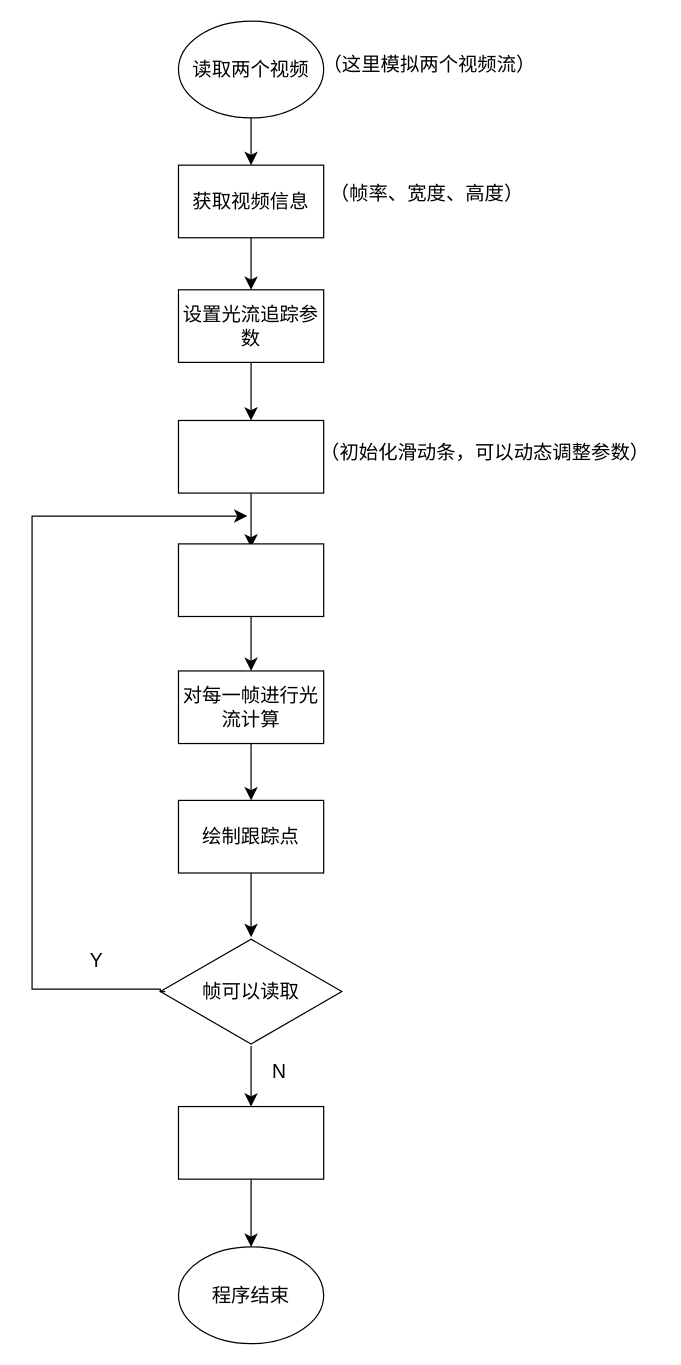
The diagram is 681 pixels wide and 1365 high, and some of its shapes have lost their labels. The shapes that lost their labels are listed below. From the top down, each one's box as (x1, y1, x2, y2) in pixels, then its label:
(177, 419, 324, 493): 分别初始化两个视频流参数
(177, 543, 324, 616): 分别读取两个视频的每一帧
(177, 1105, 324, 1179): 绘制窗口，显示效果
